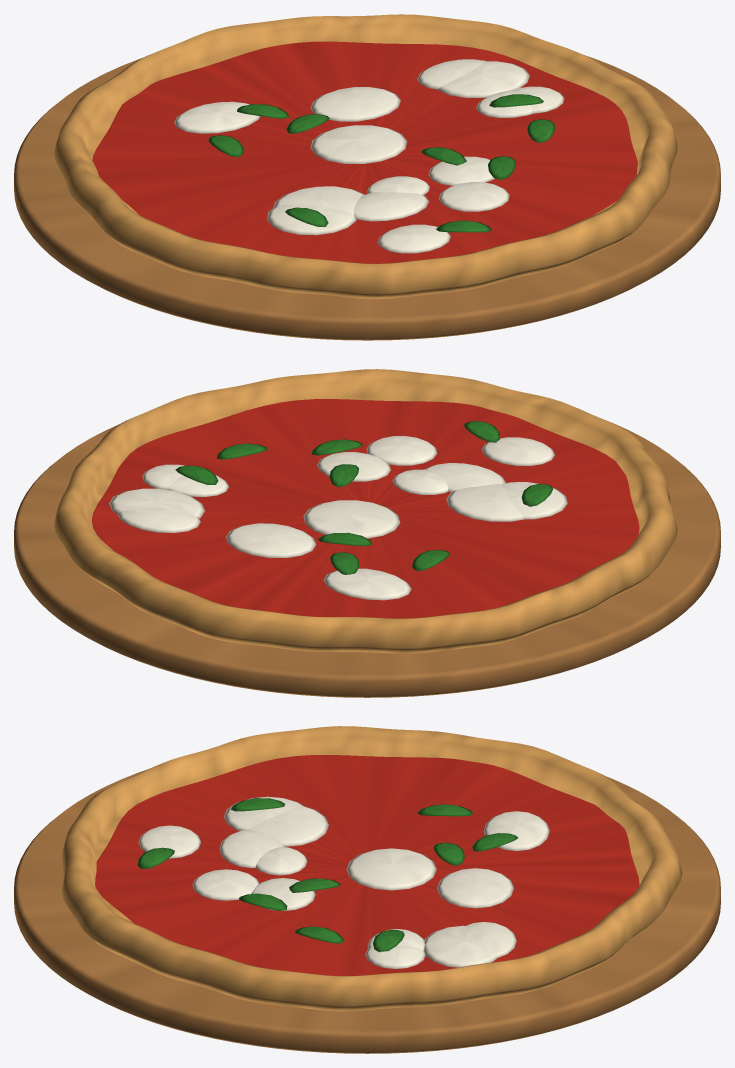
The model's file is pizza.glb.
3 renders of one model, top to bottom at view 1: azimuth 30°, elevation 25°; view 2: azimuth 150°, elevation 25°; view 3: azimuth 270°, elevation 25°, orthographic.
Size of the model in its own units: 0.4 by 0.035 by 0.4.
